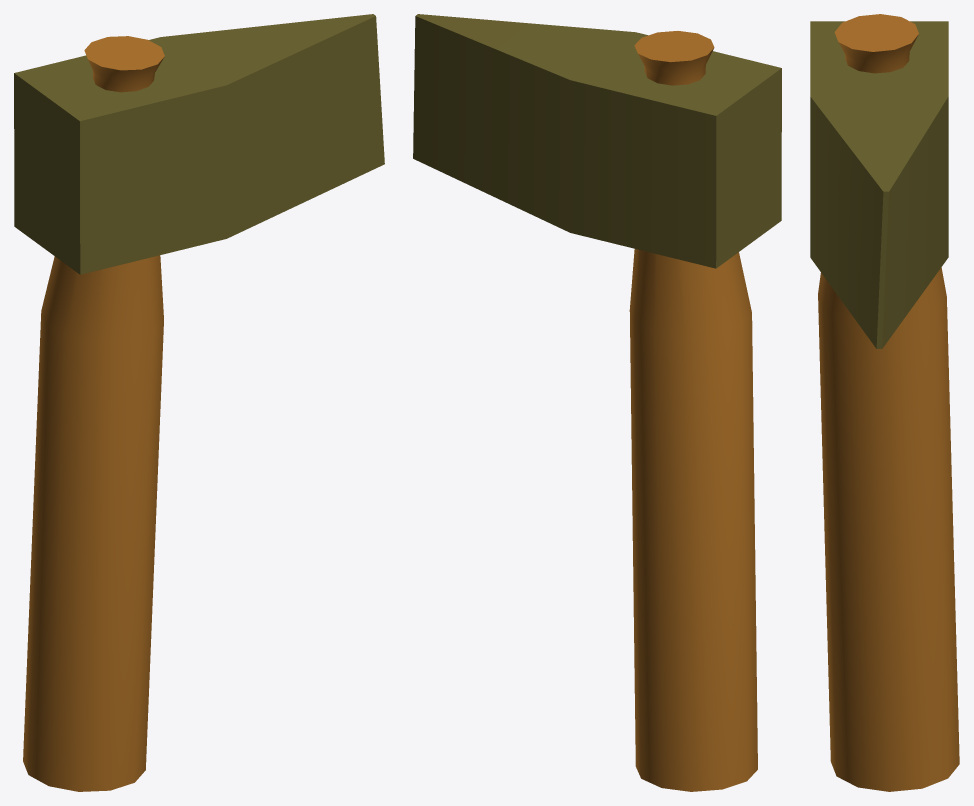
File: Gold axe.fbx
3 views of the same model, side by side, from view 1: azimuth 30°, elevation 25°; view 2: azimuth 150°, elevation 25°; view 3: azimuth 270°, elevation 25° (orthographic). The views are drawn at different scales.
Parts seen in each view (by area): view 1: axe.003; view 2: axe.003; view 3: axe.003.
Part boxes in pixels (x1=…): axe.003: x1=14, y1=14, x2=384, y2=791; axe.003: x1=413, y1=14, x2=781, y2=791; axe.003: x1=810, y1=14, x2=959, y2=791.
Bounding box in the file's own units: 0.2305 × 0.4565 × 0.0825.
